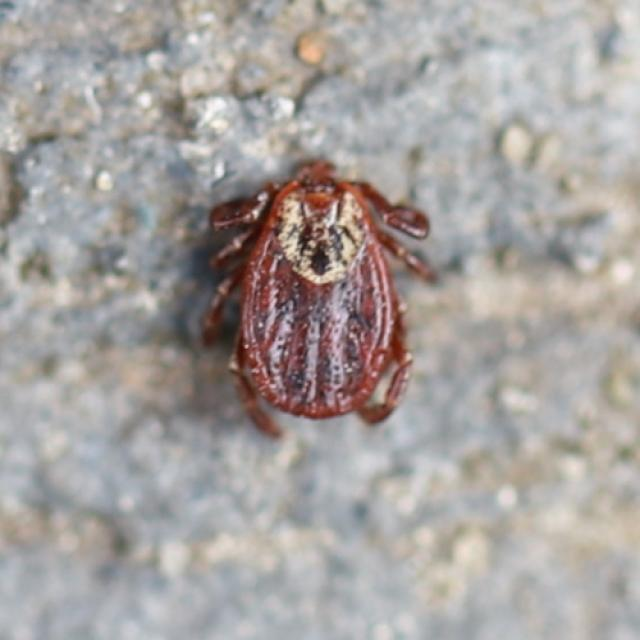Dermacentor Reticulatus-F: (205, 161, 438, 438)
